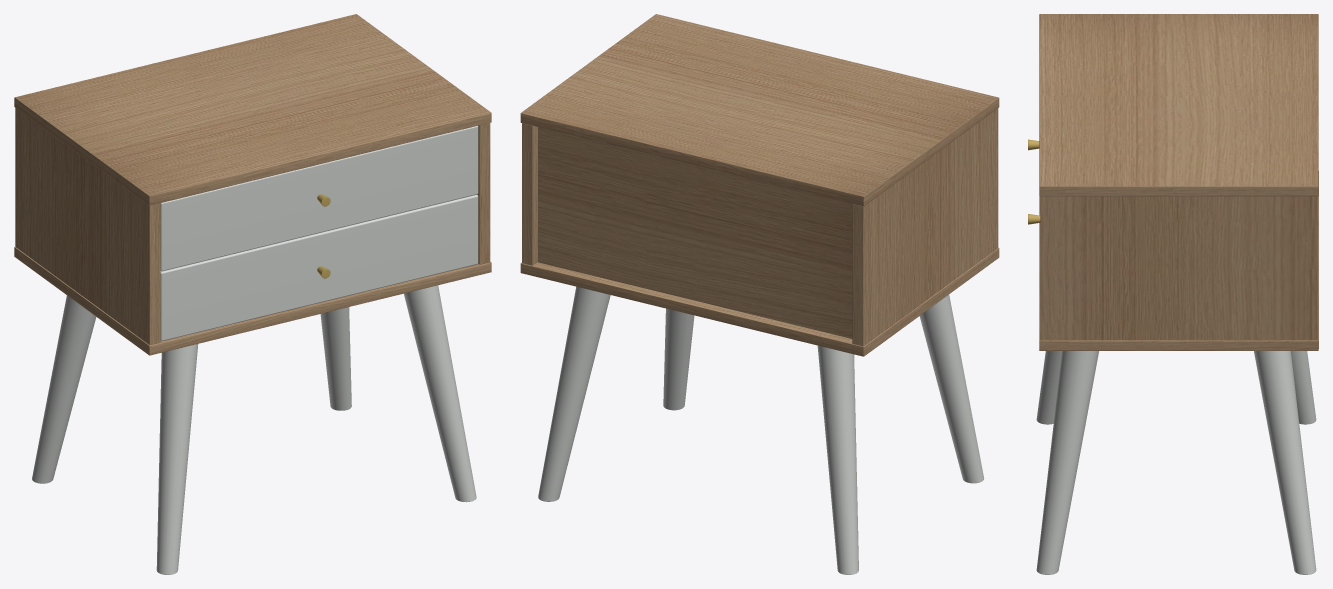
The model's file is abo-B07QD6TXWS.glb.
The picture shows the model from 3 angles, left to right: view 1: azimuth 30°, elevation 25°; view 2: azimuth 150°, elevation 25°; view 3: azimuth 270°, elevation 25°; orthographic projection. The views are drawn at different scales.
Size of the model in its own units: 0.571 by 0.61 by 0.407.
1 material, 1 textured.
